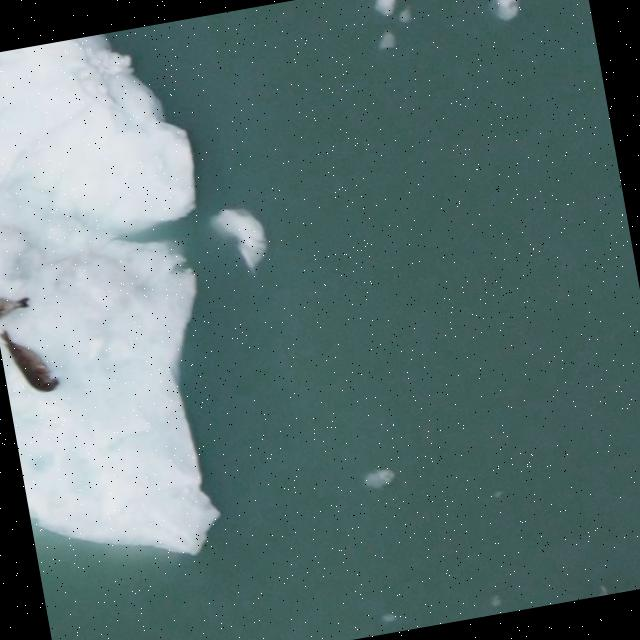seal: (0, 322, 62, 398)
